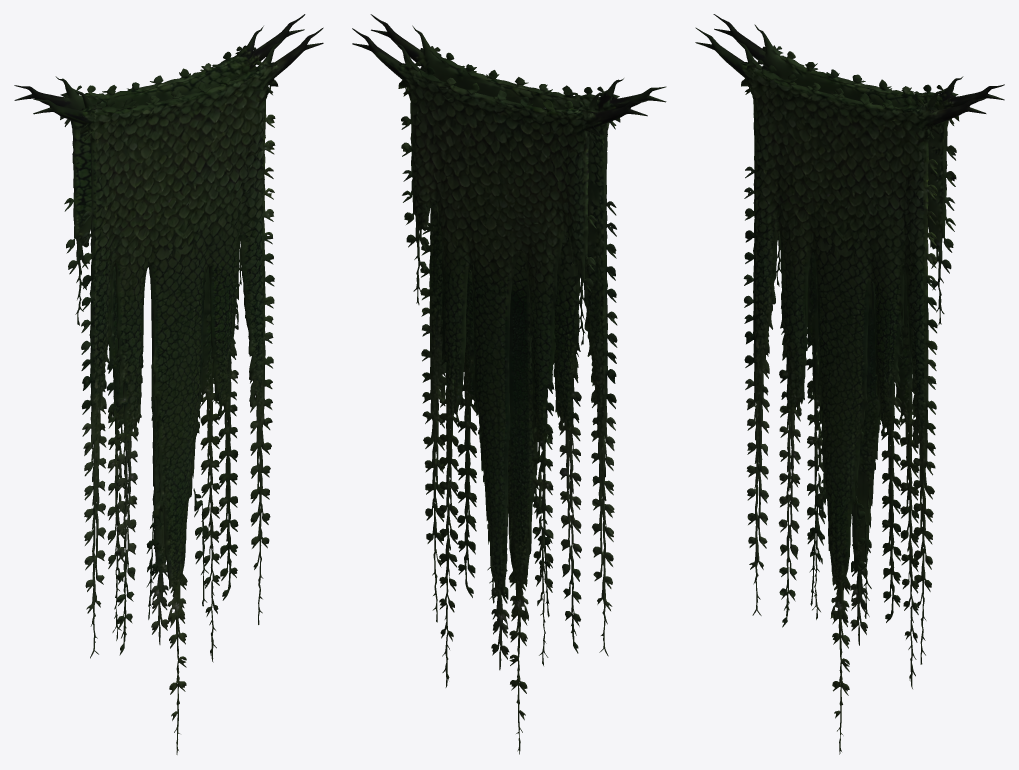
The model's file is wallvines.glb.
The picture shows the model from 3 angles, left to right: view 1: azimuth 30°, elevation 25°; view 2: azimuth 150°, elevation 25°; view 3: azimuth 330°, elevation 25°; orthographic projection.
Parts seen in each view (by area): view 1: node_0; view 2: node_0; view 3: node_0.
Boxes of the visible parts, <box> form: node_0: <box>14,14,323,754</box>; node_0: <box>352,14,666,754</box>; node_0: <box>695,14,1004,754</box>.
Bounding box in the file's own units: 0.4797 × 1.09 × 0.0695.
1 material, 1 textured.
